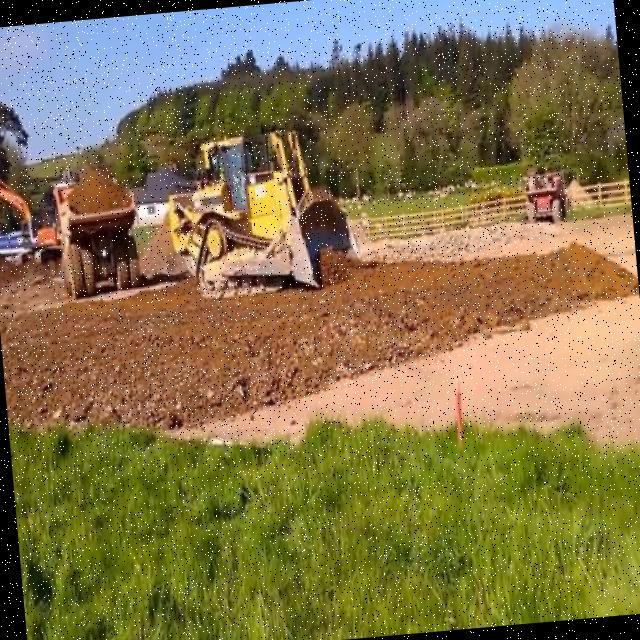Dump Truck: (54, 177, 143, 296)
Excavator: (0, 167, 61, 270)
